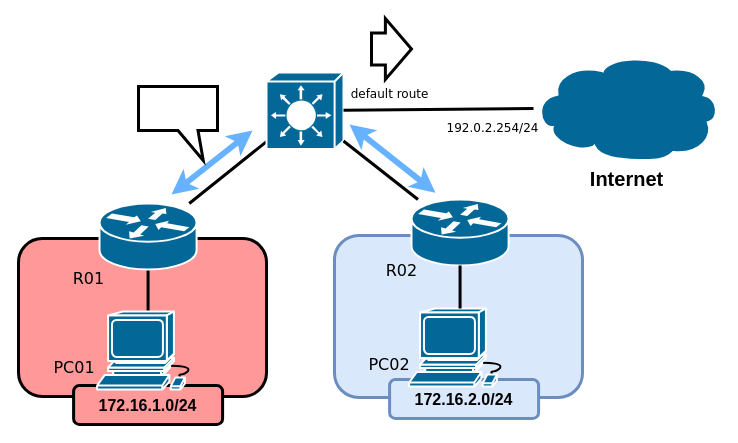
The diagram is 738 pixels wide and 443 high, and some of its shapes have lost their labels. The shapes that lost their labels are listed below. From the top down, each one's centre as x and y in pixels, then its label:
the point at 177,123: RIP
the point at 304,110: L3SW01
